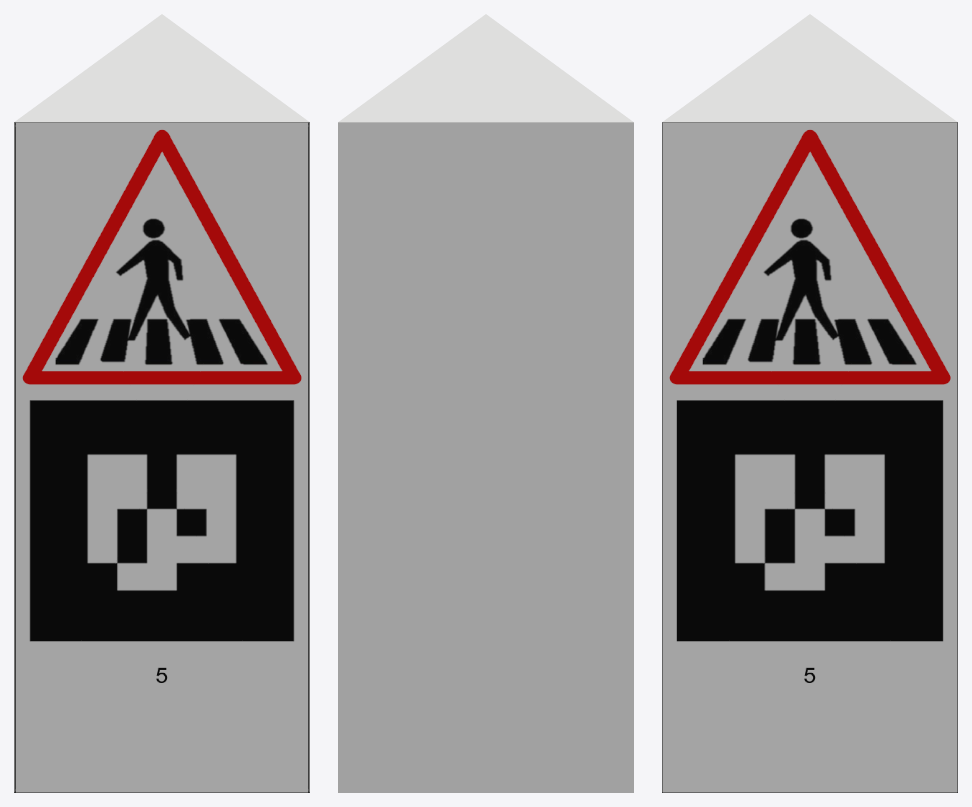
Rendered from crossing_obstacle.dae.
3 views of the same model, side by side, from view 1: azimuth 30°, elevation 25°; view 2: azimuth 150°, elevation 25°; view 3: azimuth 270°, elevation 25° (orthographic).
Parts seen in each view (by area): view 1: Body2; view 2: Body2; view 3: Body2.
Part boxes in pixels (x1=…): Body2: x1=14, y1=14, x2=309, y2=792; Body2: x1=338, y1=14, x2=633, y2=792; Body2: x1=662, y1=14, x2=957, y2=792.
Bounding box in the file's own units: 0.0866 × 0.1 × 0.25.
Materials: 2 (1 with a texture image).
